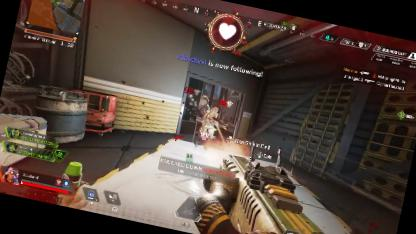Target: (196, 103, 221, 133)
